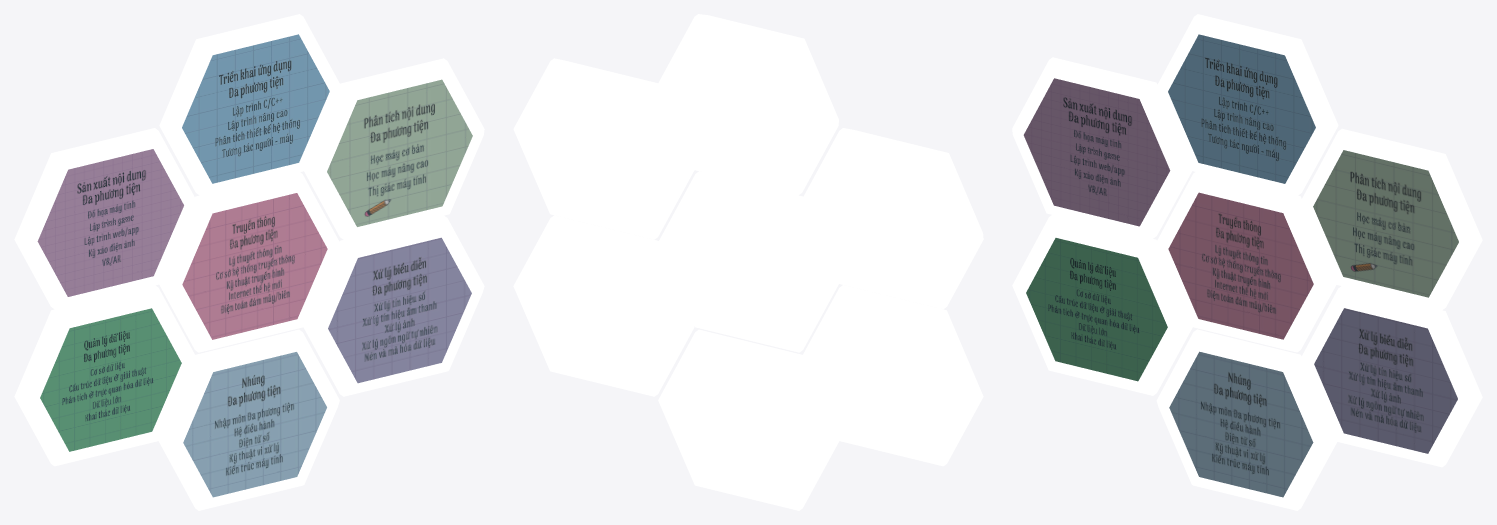
The model's file is info1.fbx.
3 views of the same model, side by side, from view 1: azimuth 30°, elevation 25°; view 2: azimuth 150°, elevation 25°; view 3: azimuth 330°, elevation 25° (orthographic).
Visible parts, largest first — view 1: Plane; view 2: Plane; view 3: Plane.
Boxes of the visible parts, x1,y1,x2,y2 form: Plane: (14, 14, 484, 510); Plane: (513, 14, 983, 510); Plane: (1012, 14, 1482, 510).
Size of the model in its own units: 499 by 479 by 18.8.
